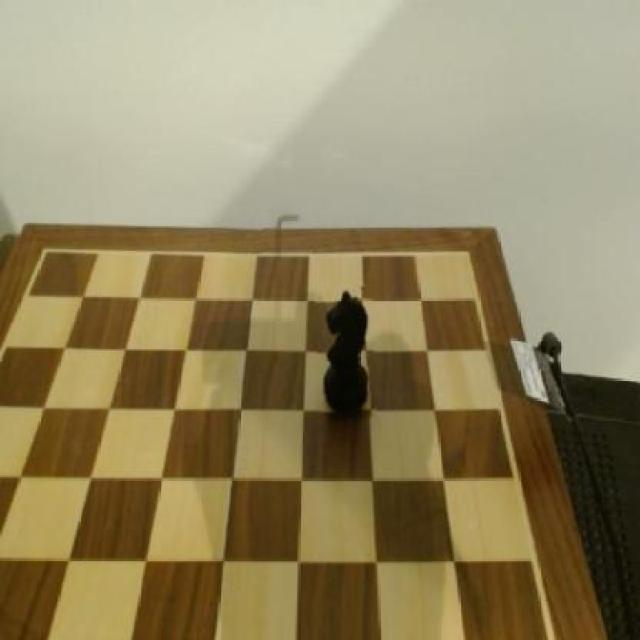black-king: (317, 288, 376, 419)
